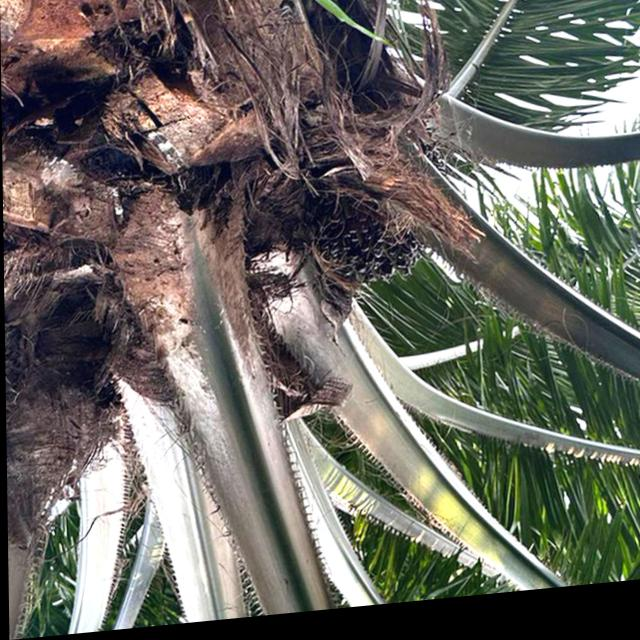ripe: (281, 193, 418, 309)
